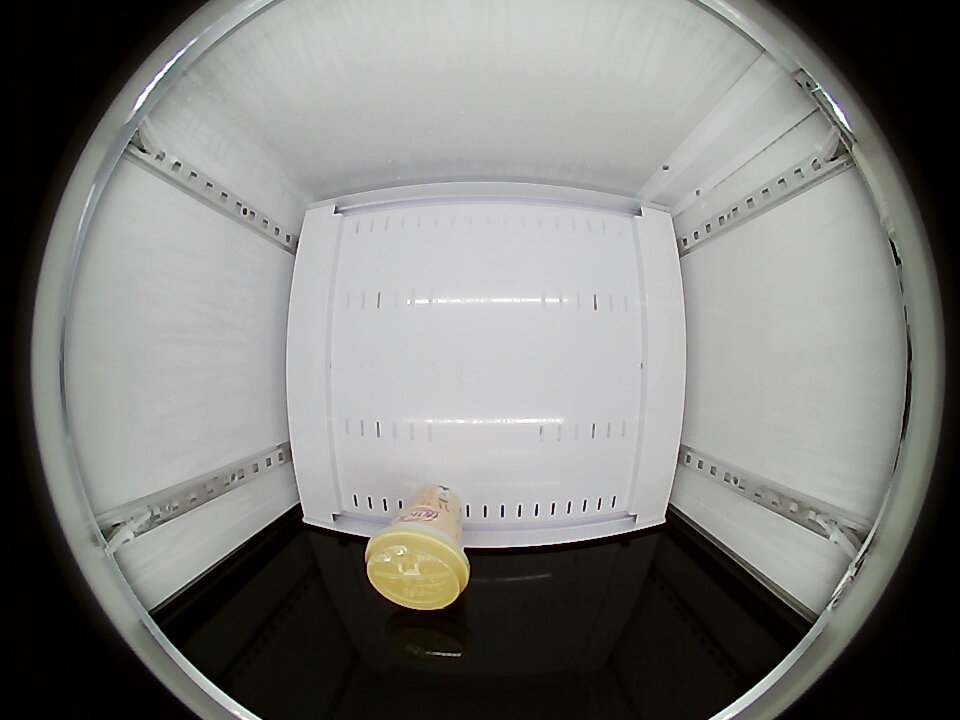youlemei: (365, 523, 470, 610)
